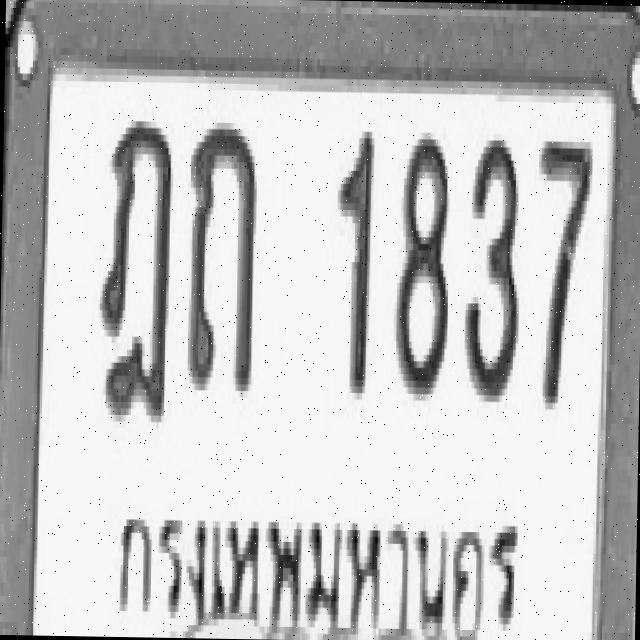1: (332, 121, 372, 396)
23DorChaDa: (96, 114, 172, 422)
3: (461, 133, 522, 402)
31ThorThung: (184, 115, 257, 391)
7: (534, 134, 592, 410)
8: (392, 128, 450, 398)
Bangkok: (101, 479, 530, 640)
